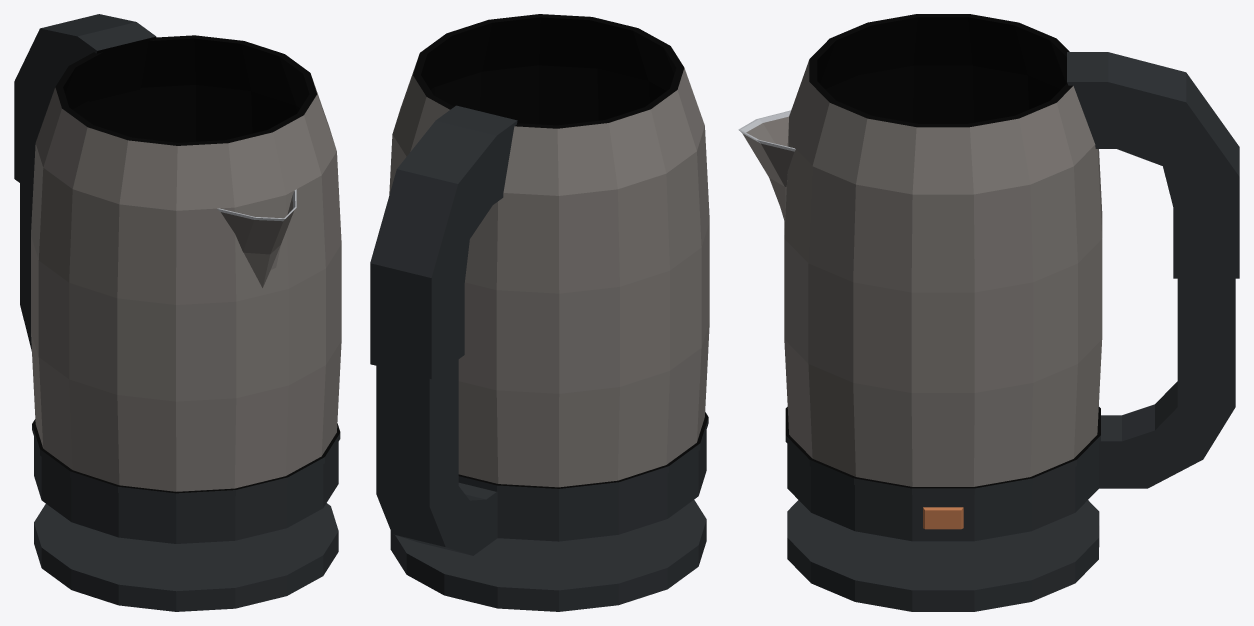
Rendered from kettle_01_A.gltf.
3 renders of one model, left to right at view 1: azimuth 30°, elevation 25°; view 2: azimuth 150°, elevation 25°; view 3: azimuth 270°, elevation 25°, orthographic. The views are drawn at different scales.
Visible parts, largest first — view 1: kettle_01_A, Electrickettle_01_A; view 2: kettle_01_A, Electrickettle_01_A; view 3: kettle_01_A, Electrickettle_01_A.
Part boxes in pixels (box(x1,y1,x2,y2)): kettle_01_A: box(14, 14, 341, 543); Electrickettle_01_A: box(34, 503, 338, 611); kettle_01_A: box(370, 14, 709, 555); Electrickettle_01_A: box(390, 500, 706, 611); kettle_01_A: box(738, 14, 1239, 541); Electrickettle_01_A: box(787, 500, 1099, 611).
Size of the model in its own units: 0.1594 by 0.2644 by 0.2503.
Materials: 1 (1 with a texture image).
